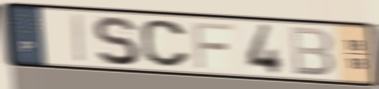4: (244, 22, 284, 76)
B: (287, 24, 336, 78)
C: (138, 18, 193, 69)
F: (190, 20, 235, 71)
I: (72, 12, 88, 65)
S: (90, 14, 142, 67)
